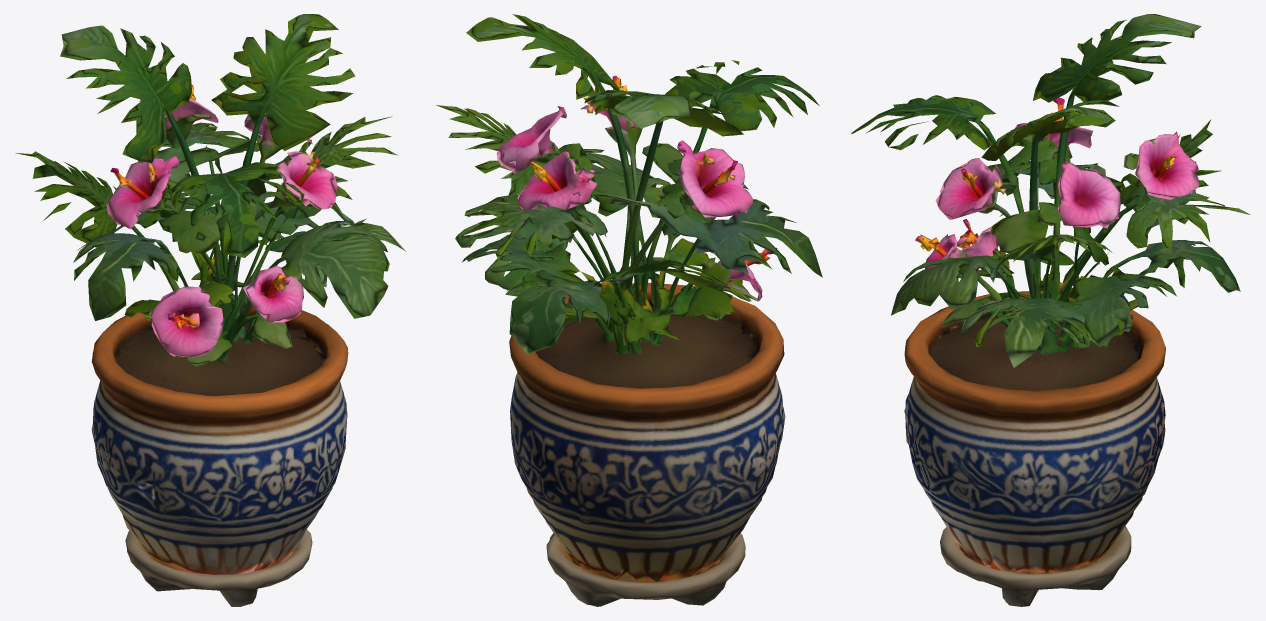
File: int_potted_plant.glb
3 views of the same model, side by side, from view 1: azimuth 30°, elevation 25°; view 2: azimuth 150°, elevation 25°; view 3: azimuth 270°, elevation 25° (orthographic). The views are drawn at different scales.
Parts seen in each view (by area): view 1: world; view 2: world; view 3: world.
Boxes of the visible parts, x1,y1,x2,y2 form: world: (15,14,406,606); world: (436,14,822,606); world: (851,14,1250,606).
Bounding box in the file's own units: 0.6742 × 0.9999 × 0.6945.
Materials: 1 (1 with a texture image).
